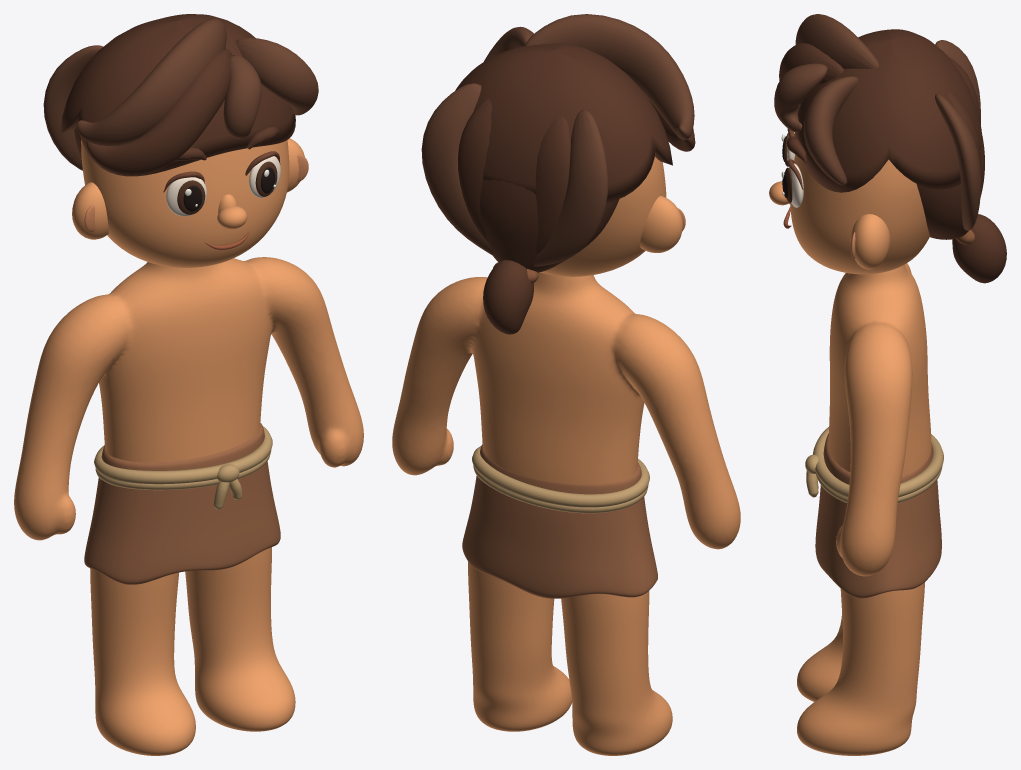
The model's file is male-resident-v02.glb.
The picture shows the model from 3 angles, left to right: view 1: azimuth 30°, elevation 25°; view 2: azimuth 150°, elevation 25°; view 3: azimuth 270°, elevation 25°; orthographic projection.
Parts seen in each view (by area): view 1: Continuous body and arms, Layered hide skirt, L · bare foot and leg, R · bare foot and leg, Cheeks and rounded chin, Shaped crown under the locks, Quiff broad sweep, Lower swept lock, Right sweep, Nape lock, Wrapped cord, Central curl (+3 smaller); view 2: Continuous body and arms, Shaped crown under the locks, Layered hide skirt, L · bare foot and leg, R · bare foot and leg, Quiff broad sweep, Nape lock, Nape lock.004, Cheeks and rounded chin, Nape mass beneath the sculpted strands, Nape lock.001, Low tied tuft (+5 smaller); view 3: Continuous body and arms, Shaped crown under the locks, R · bare foot and leg, Cheeks and rounded chin, Layered hide skirt, Right sweep, Quiff broad sweep, Nape lock.004, Low tied tuft, Nape mass beneath the sculpted strands, Central curl, L · bare foot and leg (+6 smaller).
Part boxes in pixels (x1,y1,x2,y2): Continuous body and arms: (14,257,363,540); Layered hide skirt: (84,423,280,584); L · bare foot and leg: (90,568,195,755); R · bare foot and leg: (185,547,295,731); Cheeks and rounded chin: (81,140,289,267); Shaped crown under the locks: (60,14,295,176); Quiff broad sweep: (76,18,226,146); Lower swept lock: (86,49,232,175); Right sweep: (235,38,318,115); Nape lock: (43,45,103,170); Wrapped cord: (94,426,272,484); Central curl: (223,55,261,138); Continuous body and arms: (392,272,740,549); Shaped crown under the locks: (455,43,672,203); Layered hide skirt: (462,444,657,598); L · bare foot and leg: (561,591,672,755); R · bare foot and leg: (468,561,572,731); Quiff broad sweep: (524,14,694,139); Nape lock: (533,110,608,266); Nape lock.004: (421,83,494,256); Cheeks and rounded chin: (540,156,666,276); Nape mass beneath the sculpted strands: (480,180,619,272); Nape lock.001: (535,116,570,253); Low tied tuft: (483,260,533,334); Continuous body and arms: (828,263,931,576); Shaped crown under the locks: (794,29,982,192); R · bare foot and leg: (797,582,924,755); Cheeks and rounded chin: (790,154,929,274); Layered hide skirt: (815,433,941,598); Right sweep: (803,76,858,185); Quiff broad sweep: (795,14,879,68); Nape lock.004: (935,94,980,230); Low tied tuft: (952,214,1006,283); Nape mass beneath the sculpted strands: (916,134,984,239); Central curl: (774,63,827,132); L · bare foot and leg: (797,614,842,701).
Bounding box in the file's own units: 1.64 × 3.25 × 1.01.
